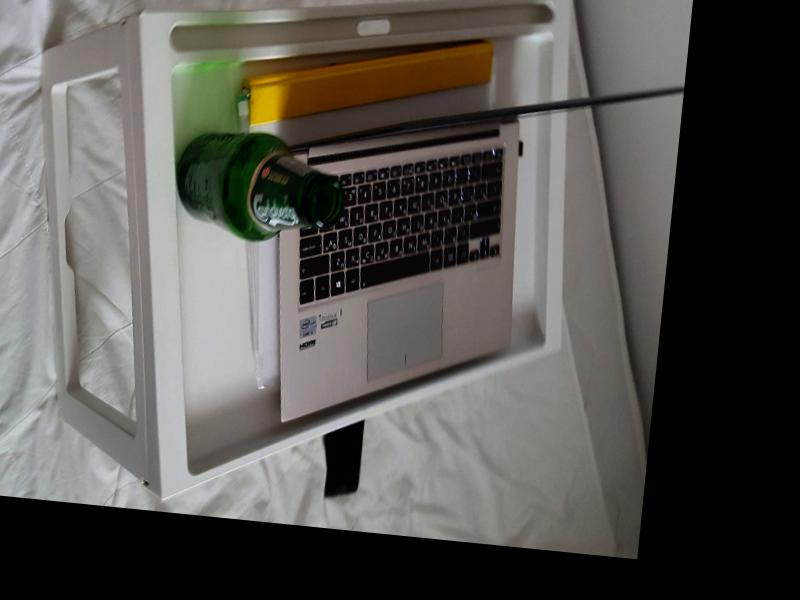Beer: (170, 126, 349, 247)
